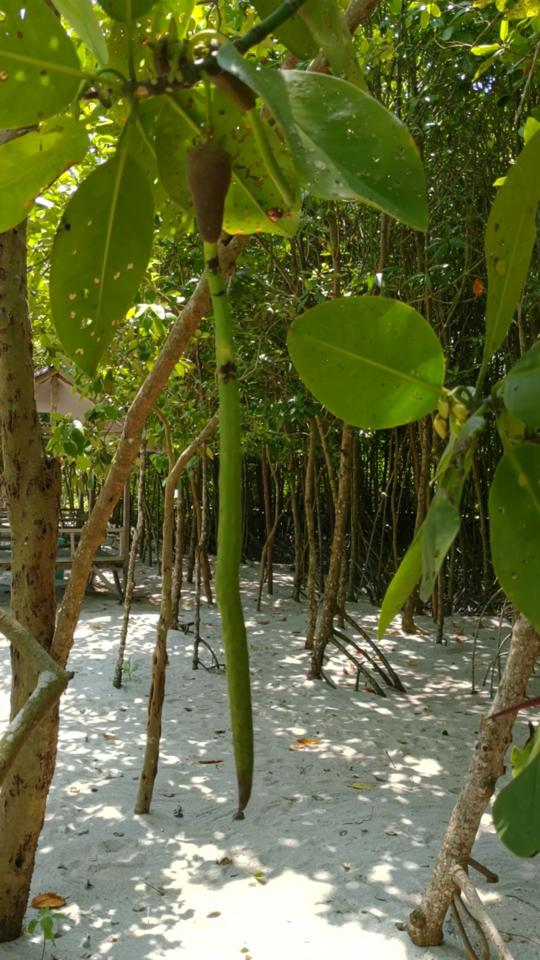mentah: (174, 129, 279, 827)
